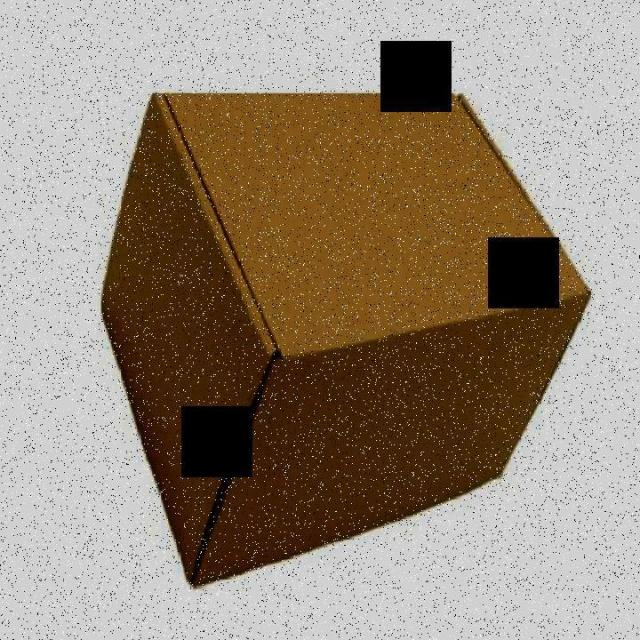box: (100, 94, 602, 588)
